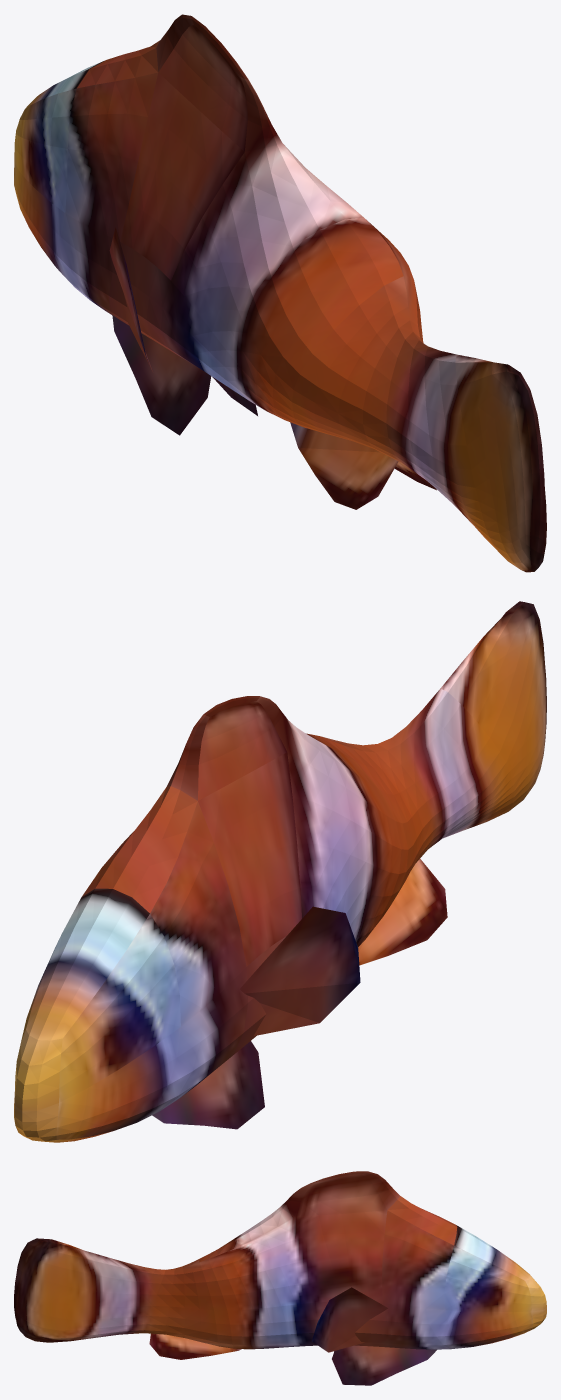
File: clownfishlow.obj
3 views of the same model, one above another, from view 1: azimuth 30°, elevation 25°; view 2: azimuth 150°, elevation 25°; view 3: azimuth 270°, elevation 25° (orthographic). The views are drawn at different scales.
Parts seen in each view (by area): view 1: Cube, Cube.004, Cube.002, Cube.001; view 2: Cube, Cube.001, Cube.004, Cube.002; view 3: Cube, Cube.004, Cube.001, Cube.002.
Part boxes in pixels (x1,y1,x2,y2): Cube: [14, 14, 546, 572]; Cube.004: [112, 315, 257, 435]; Cube.002: [290, 422, 436, 509]; Cube.001: [109, 227, 152, 371]; Cube: [14, 601, 546, 1142]; Cube.001: [240, 906, 360, 1035]; Cube.004: [152, 1041, 264, 1129]; Cube.002: [358, 858, 447, 965]; Cube: [14, 1171, 546, 1349]; Cube.004: [332, 1345, 436, 1385]; Cube.001: [312, 1287, 387, 1352]; Cube.002: [149, 1333, 241, 1359].
Bounding box in the file's own units: 0.3137 × 0.557 × 1.32.
